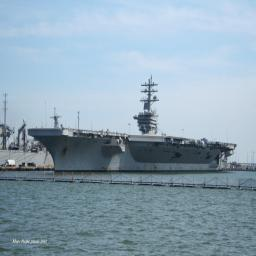Portanaves: (27, 75, 240, 176)
